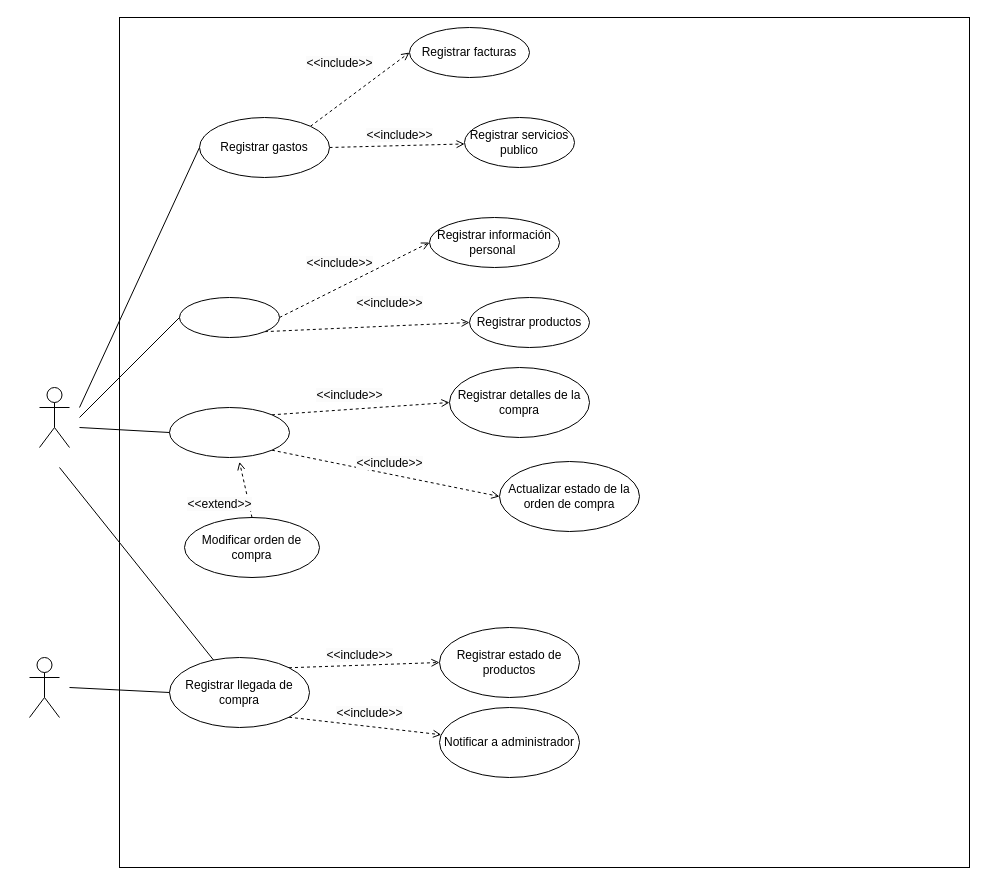
This 987x885 diagram has some shape labels left out. The shapes that lost their labels are listed below. From the top down, each one's box as (x1, y1, x2, y2) in pixels, then its label:
(178, 296, 280, 338): Registrar proveedores
(38, 386, 70, 448): Administrador
(168, 406, 290, 458): Crear orden de compra
(28, 656, 60, 718): Empleado
